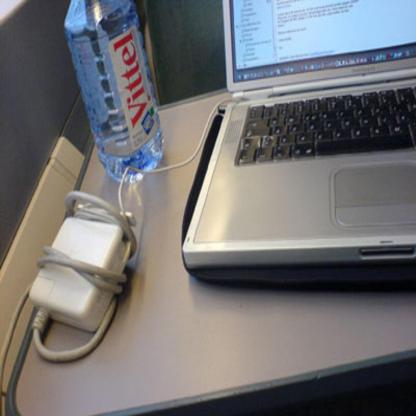board: (176, 2, 416, 284), (63, 0, 167, 185)
